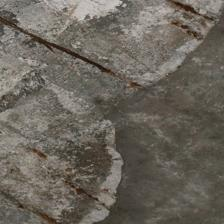Crack: (47, 52, 85, 170)
